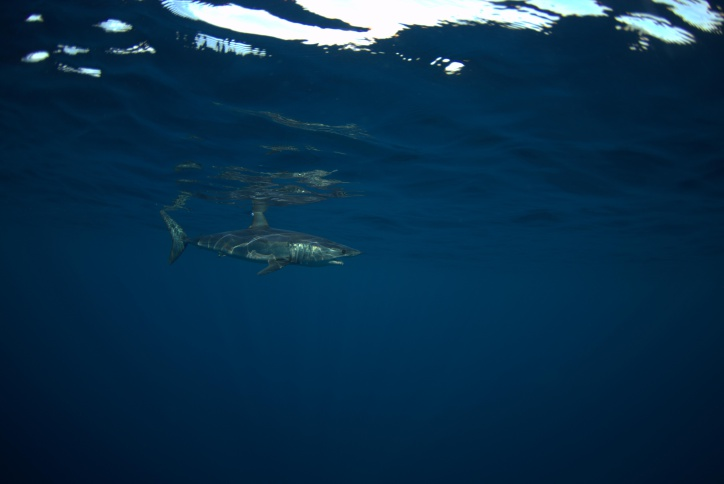Mako: (132, 195, 381, 284)
